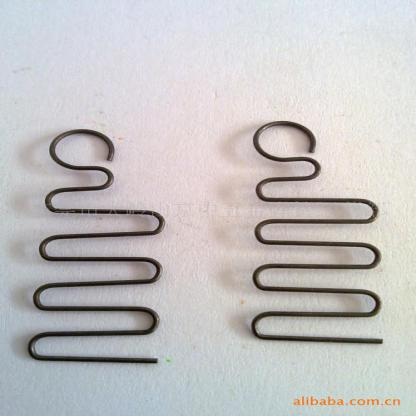FOD: (240, 116, 388, 348), (26, 126, 163, 372)
